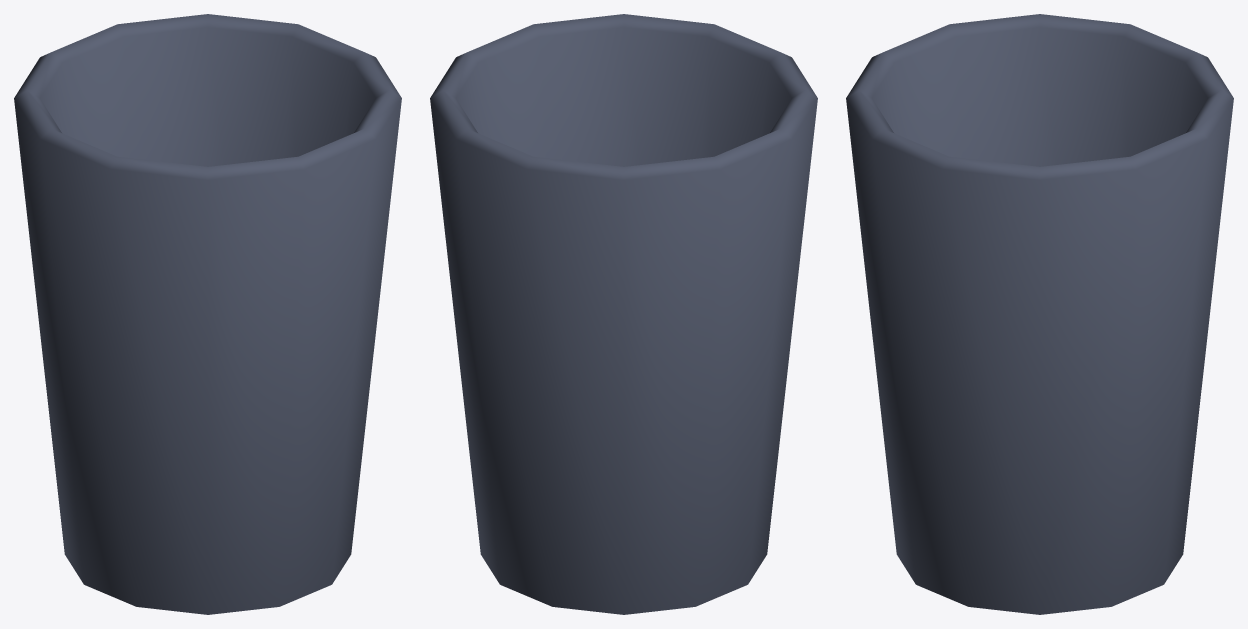
Rendered from Glass.FBX.
The picture shows the model from 3 angles, left to right: view 1: azimuth 30°, elevation 25°; view 2: azimuth 150°, elevation 25°; view 3: azimuth 270°, elevation 25°; orthographic projection.
Visible parts, largest first — view 1: Glass; view 2: Glass; view 3: Glass.
Part boxes in pixels (box(x1,y1,x2,y2)): Glass: box(14, 14, 401, 614); Glass: box(430, 14, 817, 614); Glass: box(846, 14, 1233, 614).
Size of the model in its own units: 16.8 by 22.16 by 16.8.
